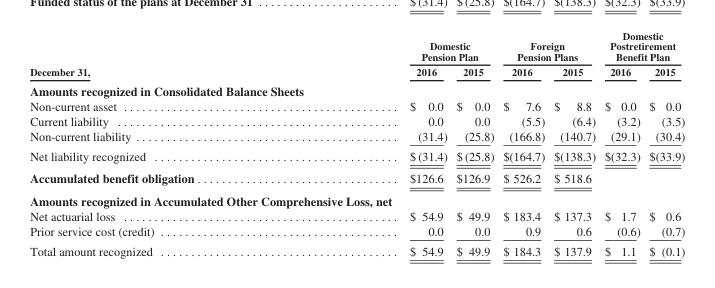table: (29, 29, 684, 257)
table column: (29, 29, 301, 257), (301, 29, 451, 257), (497, 29, 548, 257), (548, 29, 599, 257), (451, 29, 497, 257), (599, 29, 644, 257), (644, 29, 684, 257)
table column header: (29, 29, 684, 80)
table projected row header: (29, 189, 684, 208), (29, 80, 684, 98)
table row: (29, 29, 684, 63), (29, 166, 684, 189), (29, 145, 684, 166), (29, 189, 684, 208), (29, 80, 684, 98), (29, 63, 684, 80), (29, 128, 684, 145), (29, 223, 684, 240), (29, 240, 684, 257), (29, 98, 684, 113), (29, 113, 684, 128), (29, 208, 684, 223)
table spanning cell: (29, 29, 301, 80), (301, 29, 497, 63), (497, 29, 599, 63), (599, 29, 684, 63)
